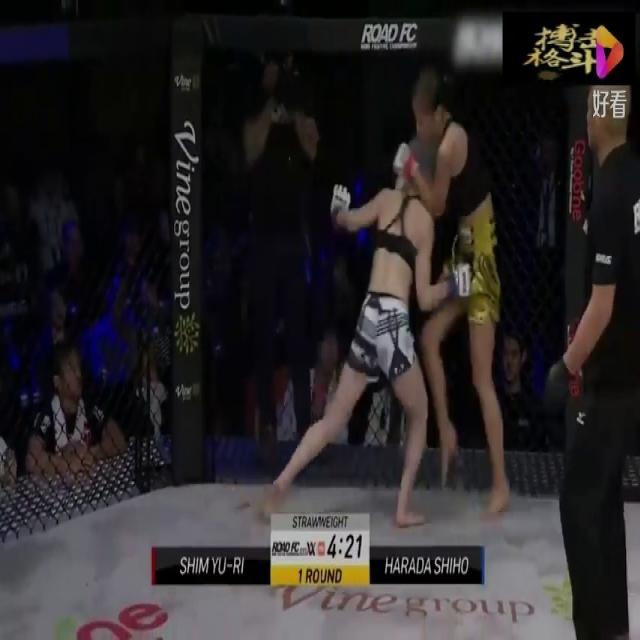fight: (276, 51, 512, 532)
non-fight: (543, 77, 639, 639)
